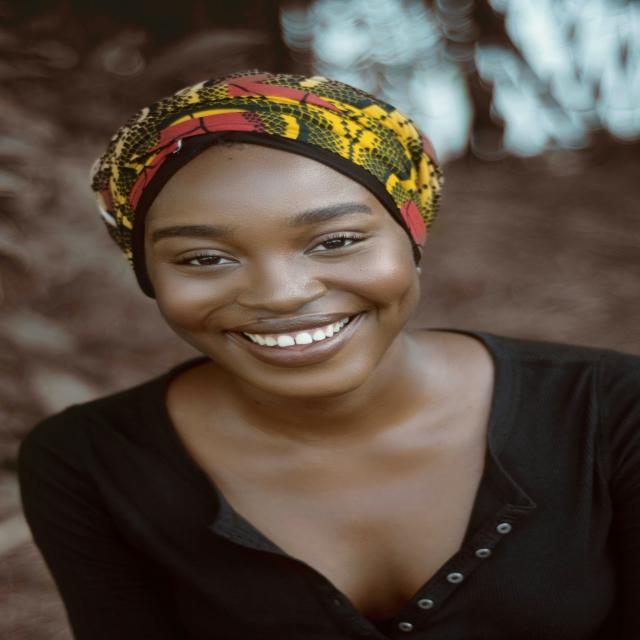human: (19, 67, 640, 640)
